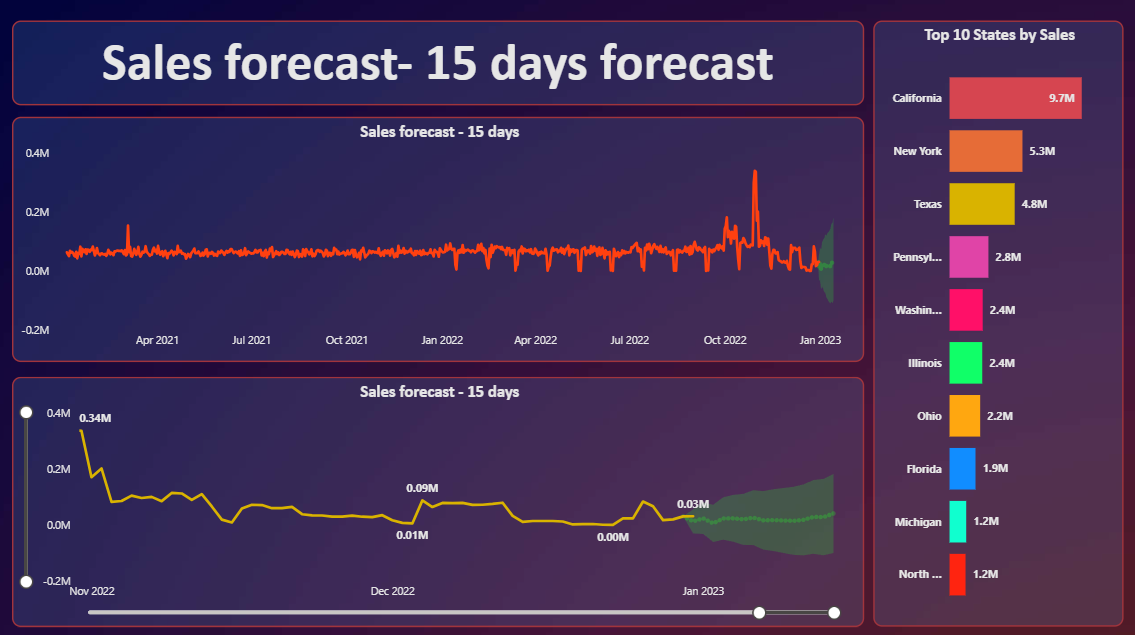

This screenshot's page, from the dashboard's own definition file:
{"tool":"powerbi","page":{"name":"Sales forecast","canvas":[1280,720],"ordinal":1},"visuals":[{"type":"lineChart","title":"Sales forecast - 15 days","fields":{"Y":["Sum(sales data bi.Total_Sales)"],"Category":["sales data bi.order_date"]},"box":[16.8,424.9,956.4,280.5],"z":0},{"type":"lineChart","title":"Sales forecast - 15 days","fields":{"Y":["Sum(sales data bi.Total_Sales)"],"Category":["sales data bi.order_date"]},"box":[16.8,133.2,956.4,274.8],"z":1000},{"type":"clusteredBarChart","title":"Top 10 States by Sales","fields":{"Category":["sales data bi.customer_state"],"Y":["Sum(sales data bi.Total_Sales)"]},"box":[983,25.2,280.5,680.1],"z":2000},{"type":"textbox","box":[16.8,25.2,956.4,95.4],"z":3000}]}

Visuals, with their boxes in screenshot pixels (x1, y1, x2, y2), scaled from the page's 1280x720 canvas onto the 1135x635 screenshot:
"Sales forecast - 15 days" lineChart: rect(15, 375, 863, 622)
"Sales forecast - 15 days" lineChart: rect(15, 117, 863, 360)
"Top 10 States by Sales" clusteredBarChart: rect(872, 22, 1120, 622)
textbox: rect(15, 22, 863, 106)
